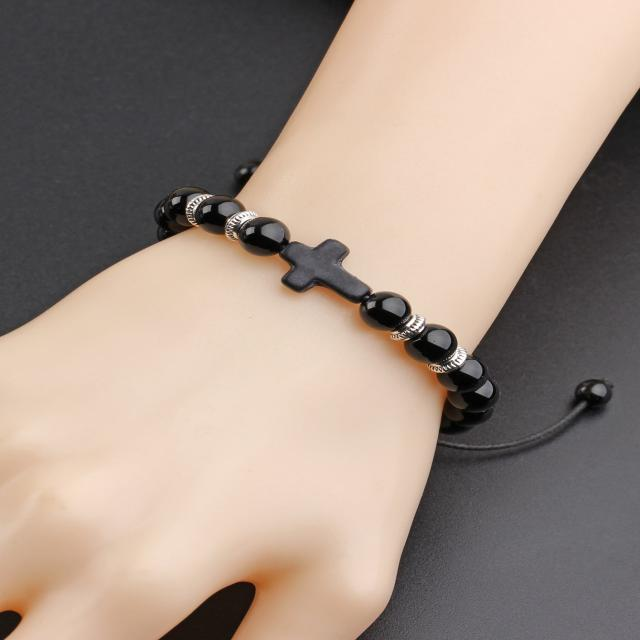bracelet: (148, 97, 640, 552)
